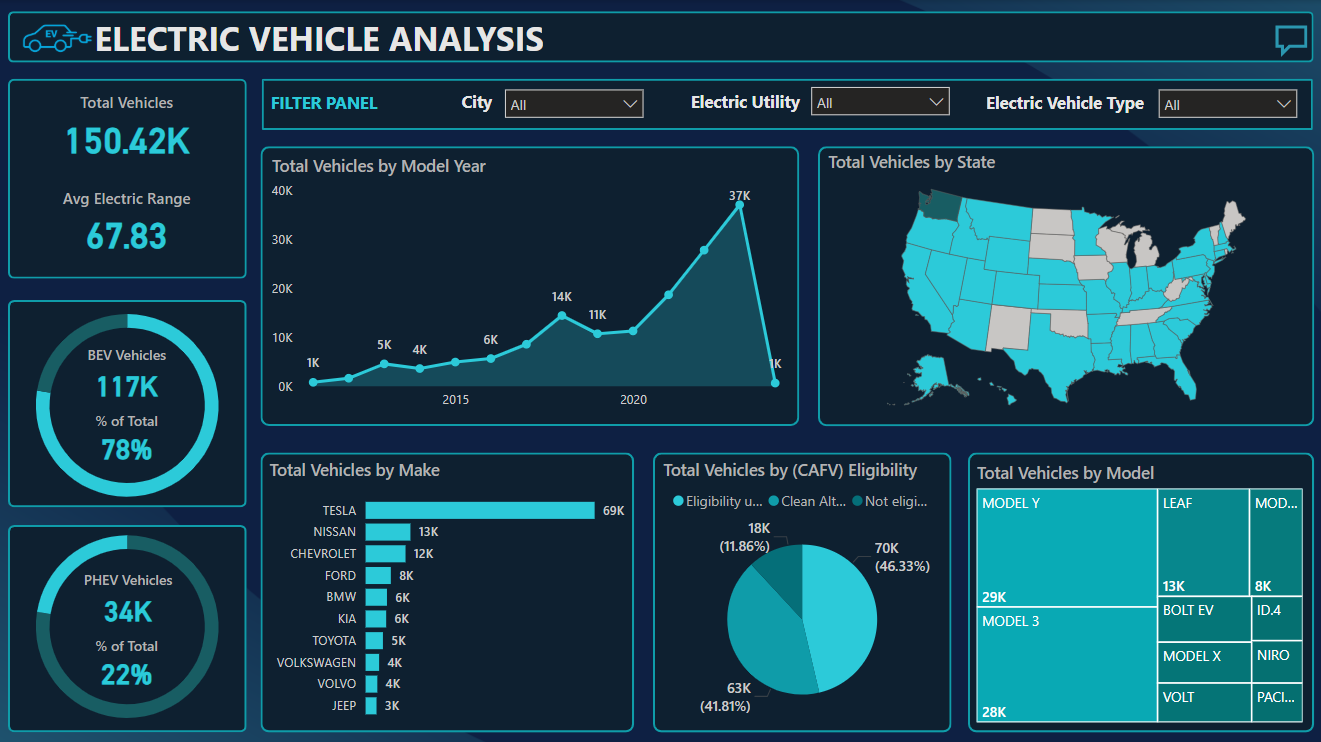

This screenshot's page, from the dashboard's own definition file:
{"tool":"powerbi","page":{"name":"Dashboard","canvas":[1280,720],"ordinal":0},"visuals":[{"type":"shape","box":[9.6,10.9,1260.3,49.4],"z":0},{"type":"textbox","box":[88.1,9.7,453.6,54.3],"z":1000},{"type":"shape","box":[9.7,76,230.4,193],"z":2000},{"type":"card","title":"Total Vehicles","fields":{"Values":["Electric_Vehicle_Population_Data.Total Vehicles"]},"box":[18.1,88,212.3,71.2],"z":3000},{"type":"card","title":"Avg Electric Range","fields":{"Values":["Avg(Electric_Vehicle_Population_Data.Electric Range)"]},"box":[18.1,180.9,212.3,68.7],"z":4000},{"type":"shape","box":[9.6,289.4,230.4,200.2],"z":5000},{"type":"shape","box":[9.6,506.5,230.4,200.2],"z":6000},{"type":"donutChart","fields":{"Category":["Electric_Vehicle_Population_Data.Electric Vehicle Type"],"Y":["Electric_Vehicle_Population_Data.Total Vehicles"]},"box":[0,276.3,249.7,230.4],"z":7000},{"type":"card","title":"BEV Vehicles","fields":{"Values":["Electric_Vehicle_Population_Data.BEV Vehicles"]},"box":[48.2,332.9,152,59.1],"z":8000},{"type":"card","title":"% of Total","fields":{"Values":["Electric_Vehicle_Population_Data.% of BEV"]},"box":[48.2,396.8,152,53.1],"z":9000},{"type":"donutChart","fields":{"Category":["Electric_Vehicle_Population_Data.Electric Vehicle Type"],"Y":["Electric_Vehicle_Population_Data.Total Vehicles"]},"box":[0,489.8,249.7,230.4],"z":10000},{"type":"card","title":"PHEV Vehicles","fields":{"Values":["Electric_Vehicle_Population_Data.PHEV Vehicles"]},"box":[49.5,550.1,152,59.1],"z":11000},{"type":"card","title":"% of Total","fields":{"Values":["Electric_Vehicle_Population_Data.% of PHEV"]},"box":[48.2,613.9,152,53.1],"z":12000},{"type":"shape","box":[254.6,76,1014.6,49.5],"z":13000},{"type":"shape","box":[253.3,141.1,520,270],"z":14000},{"type":"areaChart","fields":{"Category":["Electric_Vehicle_Population_Data.Model Year"],"Y":["Electric_Vehicle_Population_Data.Total Vehicles"]},"box":[259.3,148.3,508.9,255.7],"z":15000},{"type":"shape","box":[791.4,141.2,479,270.2],"z":16000},{"type":"shape","box":[253.3,436.6,360.6,270.2],"z":17000},{"type":"barChart","fields":{"Category":["Electric_Vehicle_Population_Data.Make"],"Y":["Electric_Vehicle_Population_Data.Total Vehicles"]},"box":[257,441.6,353.5,261.8],"z":18000},{"type":"shape","box":[632,436.6,288.2,270.2],"z":19000},{"type":"pieChart","title":"Total Vehicles by (CAFV) Eligibility","fields":{"Category":["Electric_Vehicle_Population_Data.Clean Alternative Fuel Vehicle (CAFV) Eligibility"],"Y":["Electric_Vehicle_Population_Data.Total Vehicles"]},"box":[637,441.6,278.7,261.8],"z":20000},{"type":"shape","box":[935.9,436.6,334.1,270.2],"z":21000},{"type":"treemap","fields":{"Group":["Electric_Vehicle_Population_Data.Model"],"Values":["Electric_Vehicle_Population_Data.Total Vehicles"]},"box":[939.8,445.2,324.5,257],"z":22000},{"type":"textbox","box":[258,83.7,126.2,38.4],"z":23000},{"type":"slicer","fields":{"Values":["Electric_Vehicle_Population_Data.City"]},"box":[478.9,75.5,153.7,48],"z":24000},{"type":"textbox","box":[436.4,82.3,50.8,38.4],"z":25000},{"type":"slicer","fields":{"Values":["Electric_Vehicle_Population_Data.Electric Utility"]},"box":[774.9,74.1,153.7,48],"z":26000},{"type":"textbox","box":[658.3,82.3,124.9,38.4],"z":27000},{"type":"slicer","fields":{"Values":["Electric_Vehicle_Population_Data.Electric Vehicle Type"]},"box":[1110.1,75.5,153.7,48],"z":28000},{"type":"textbox","box":[939.8,83.2,179.8,37.4],"z":29000},{"type":"shapeMap","fields":{"Category":["Electric_Vehicle_Population_Data.State"],"Value":["Electric_Vehicle_Population_Data.Total Vehicles"]},"box":[796.3,144.8,470.5,263],"z":30000},{"type":"image","box":[8.4,6,94.1,60.3],"z":31000},{"type":"actionButton","box":[1214.9,19.3,53.1,39.8],"z":32000}]}

Visuals, with their boxes in screenshot pixels (x1, y1, x2, y2), scaled from the page's 1280x720 canvas onto the 1321x742 screenshot:
shape: l=10, t=11, r=1311, b=62
textbox: l=91, t=10, r=559, b=66
shape: l=10, t=78, r=248, b=277
"Total Vehicles" card: l=19, t=91, r=238, b=164
"Avg Electric Range" card: l=19, t=186, r=238, b=257
shape: l=10, t=298, r=248, b=505
shape: l=10, t=522, r=248, b=728
donutChart - Electric_Vehicle_Population_Data.Electric Vehicle Type x Electric_Vehicle_Population_Data.Total Vehicles: l=0, t=285, r=258, b=522
"BEV Vehicles" card: l=50, t=343, r=207, b=404
"% of Total" card: l=50, t=409, r=207, b=464
donutChart - Electric_Vehicle_Population_Data.Electric Vehicle Type x Electric_Vehicle_Population_Data.Total Vehicles: l=0, t=505, r=258, b=741
"PHEV Vehicles" card: l=51, t=567, r=208, b=628
"% of Total" card: l=50, t=633, r=207, b=687
shape: l=263, t=78, r=1310, b=129
shape: l=261, t=145, r=798, b=424
areaChart - Electric_Vehicle_Population_Data.Model Year x Electric_Vehicle_Population_Data.Total Vehicles: l=268, t=153, r=793, b=416
shape: l=817, t=146, r=1311, b=424
shape: l=261, t=450, r=634, b=728
barChart - Electric_Vehicle_Population_Data.Make x Electric_Vehicle_Population_Data.Total Vehicles: l=265, t=455, r=630, b=725
shape: l=652, t=450, r=950, b=728
"Total Vehicles by (CAFV) Eligibility" pieChart: l=657, t=455, r=945, b=725
shape: l=966, t=450, r=1311, b=728
treemap - Electric_Vehicle_Population_Data.Model x Electric_Vehicle_Population_Data.Total Vehicles: l=970, t=459, r=1305, b=724
textbox: l=266, t=86, r=397, b=126
slicer - Electric_Vehicle_Population_Data.City: l=494, t=78, r=653, b=127
textbox: l=450, t=85, r=503, b=124
slicer - Electric_Vehicle_Population_Data.Electric Utility: l=800, t=76, r=958, b=126
textbox: l=679, t=85, r=808, b=124
slicer - Electric_Vehicle_Population_Data.Electric Vehicle Type: l=1146, t=78, r=1304, b=127
textbox: l=970, t=86, r=1155, b=124
shapeMap - Electric_Vehicle_Population_Data.State x Electric_Vehicle_Population_Data.Total Vehicles: l=822, t=149, r=1307, b=420
image: l=9, t=6, r=106, b=68
actionButton: l=1254, t=20, r=1309, b=61
